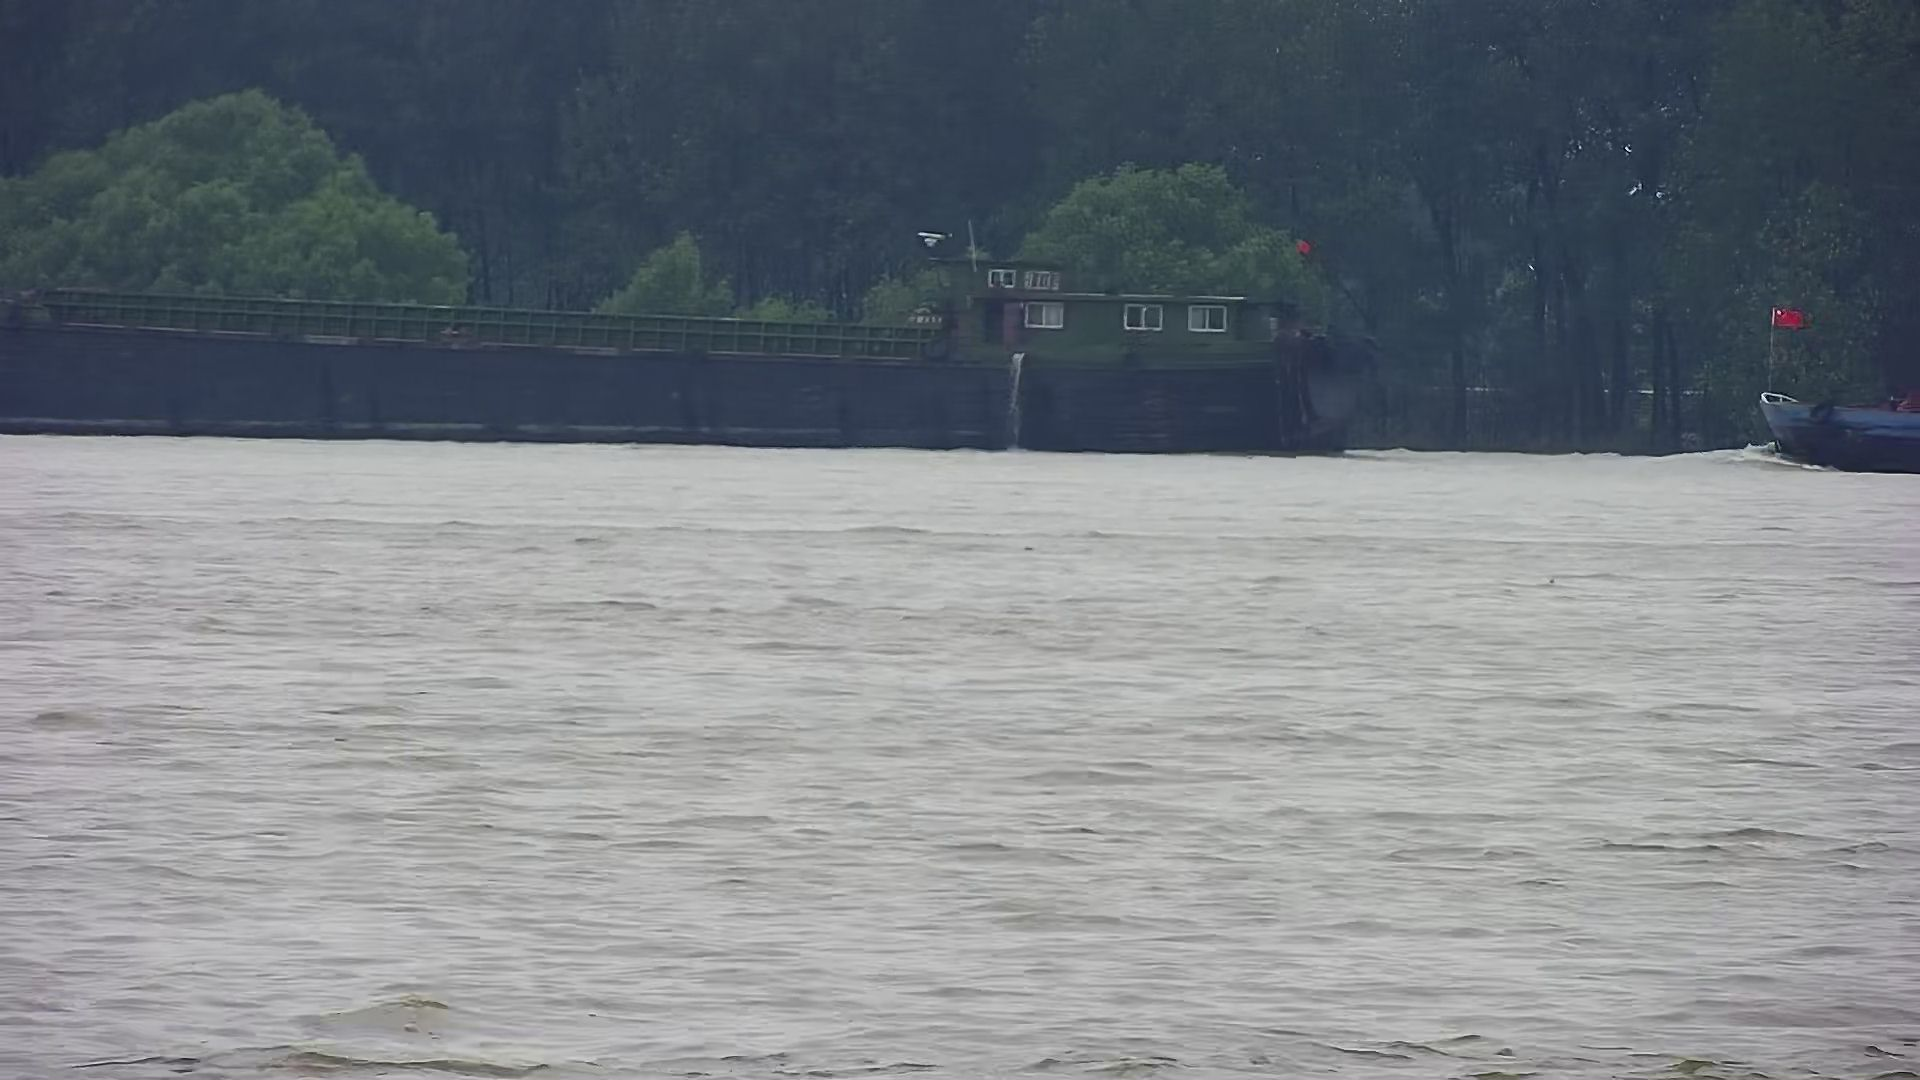ship: (1, 218, 1367, 464), (1759, 299, 1920, 479)
